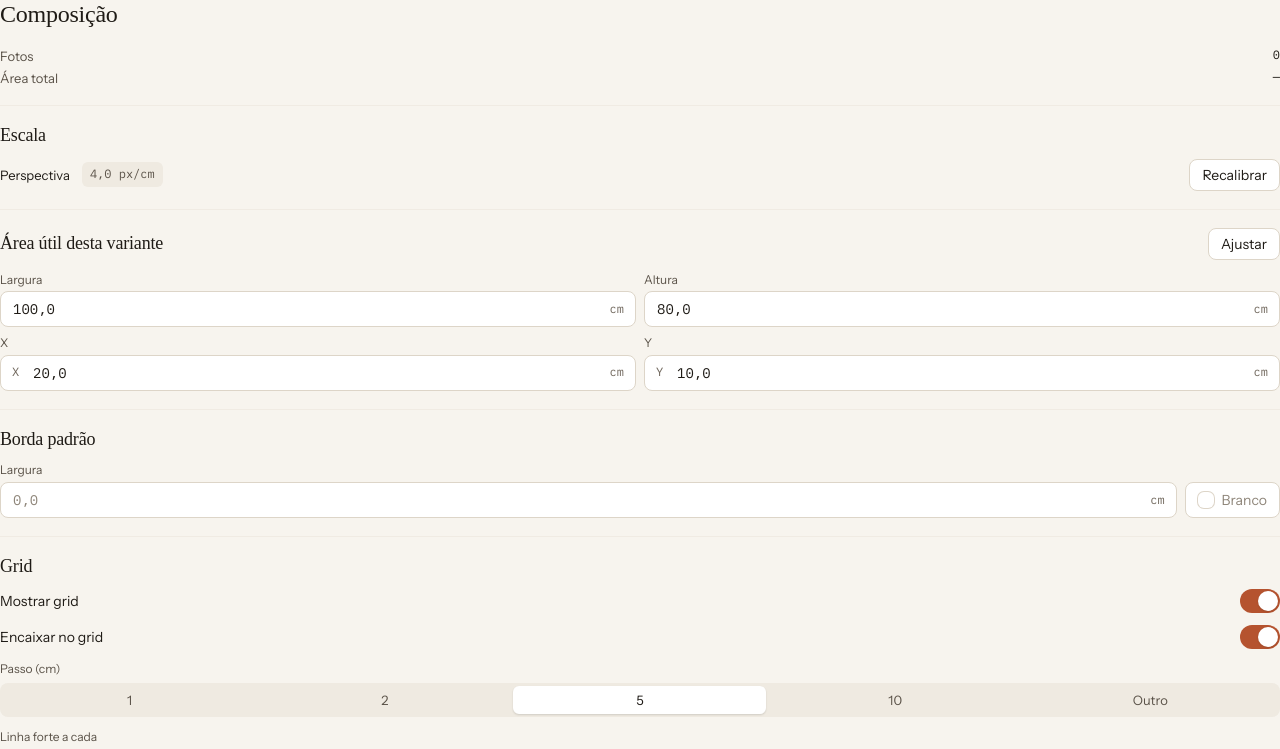
Scenario: Área útil desta variante (A-13, A-14) › valor fora da faixa não aplica e mostra a faixa válida
The width and height of the screenshot is (1280, 749).
Replace the text in the field labelled "Largura" below "Altura" with "999": (318, 309) x1=0 y1=291 x2=636 y2=327
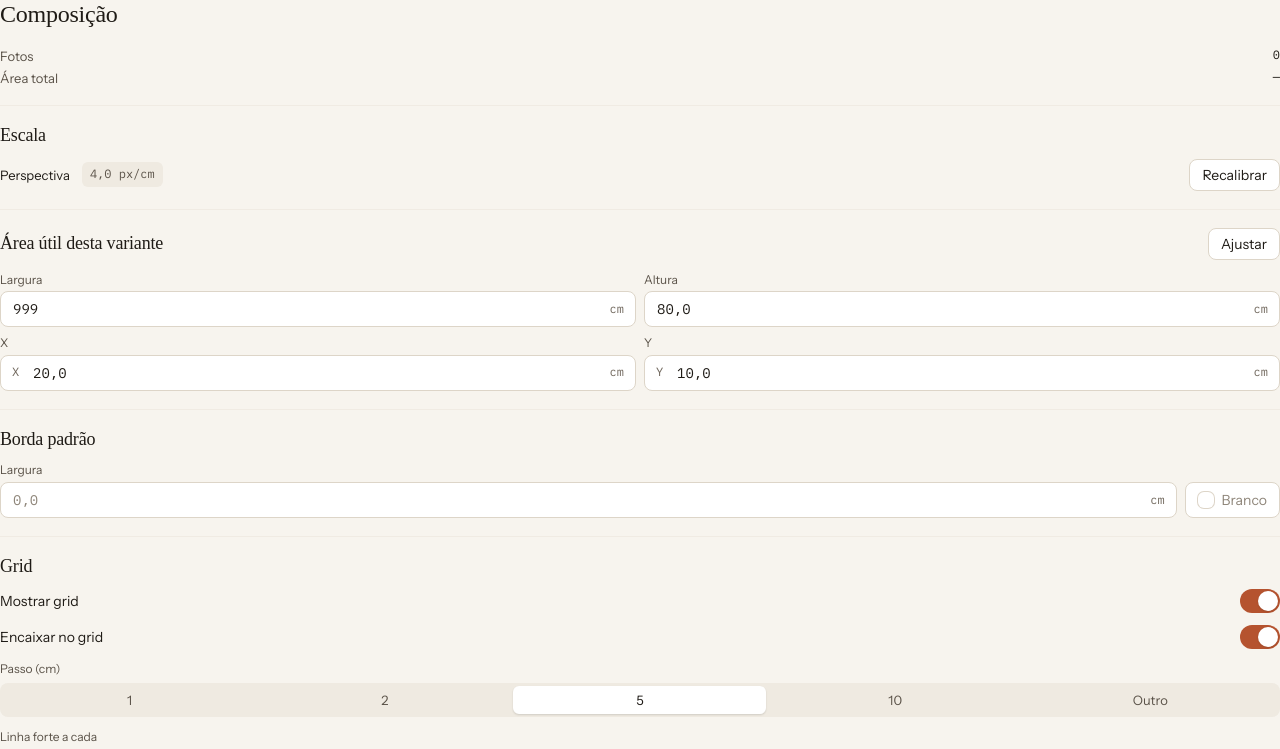
Press Enter in the field labelled "Largura" below "Altura", box x1=0 y1=291 x2=636 y2=327
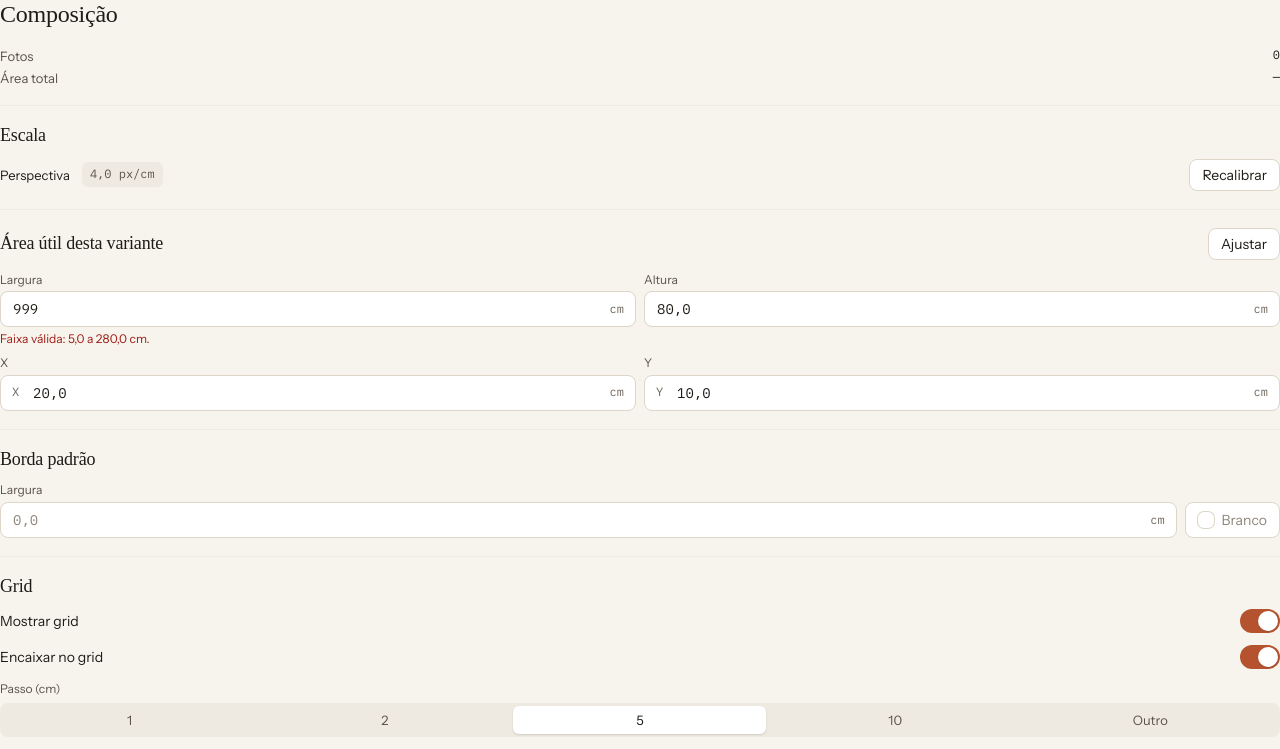
Now the text "Faixa válida: 5,0 a 280,0 cm." is shown, box x1=0 y1=331 x2=150 y2=346
